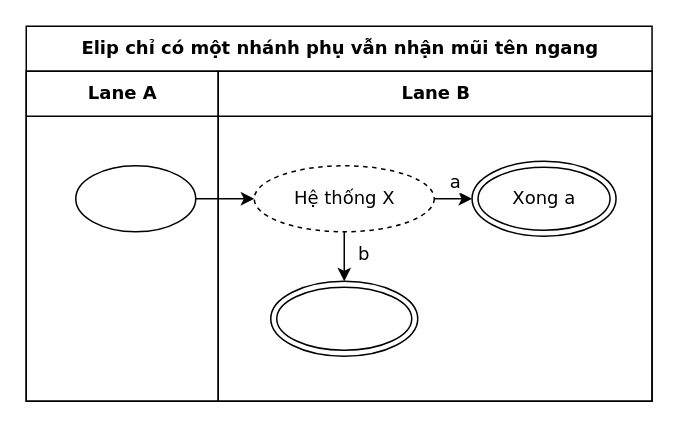
Image size: 680x428. Some labels were removed from this diagram. The shapes that lost their labels are listed below. From the top down, each one's centre as x and y in pixels, then its label:
At (135,198): "Vào".
At (343,318): "Xong b".
